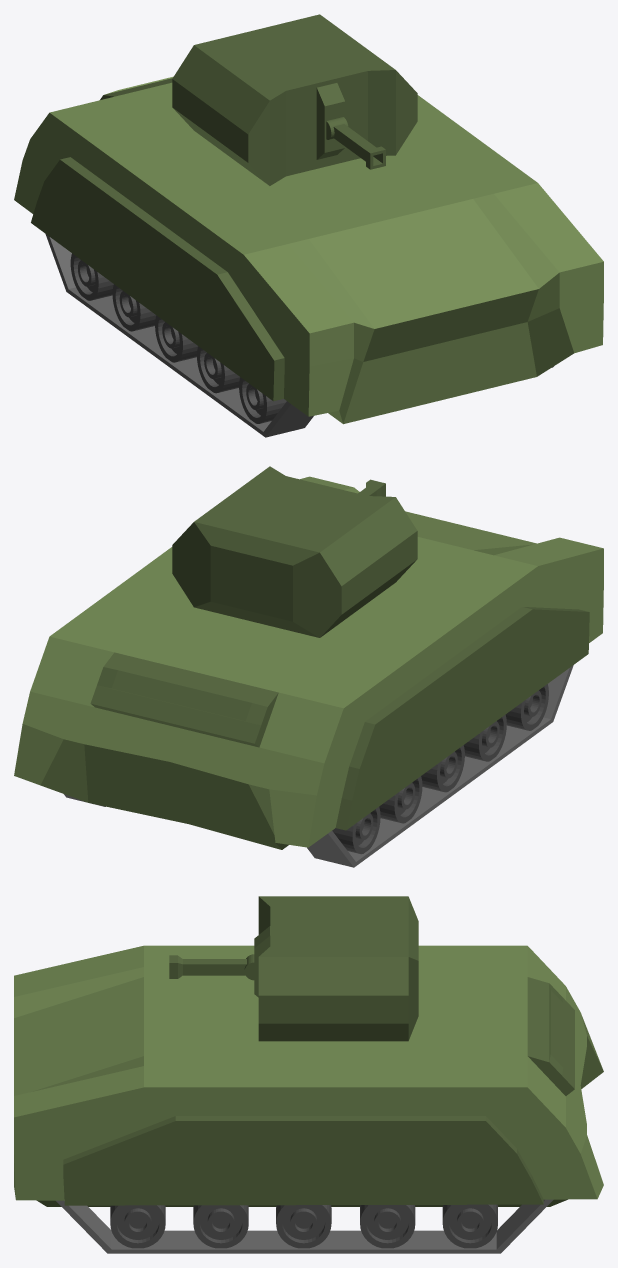
Rendered from tier1.fbx.
The picture shows the model from 3 angles, top to bottom: view 1: azimuth 30°, elevation 25°; view 2: azimuth 150°, elevation 25°; view 3: azimuth 270°, elevation 25°; orthographic projection.
Visible parts, largest first — view 1: Body7, Turret7, Road Wheels7, Tracks7, Main Gun7; view 2: Body7, Turret7, Road Wheels7, Tracks7; view 3: Body7, Turret7, Road Wheels7, Tracks7, Main Gun7.
Boxes of the visible parts, x1=… form: Body7: x1=14, y1=76, x2=603, y2=424; Turret7: x1=172, y1=14, x2=417, y2=185; Road Wheels7: x1=70, y1=253, x2=286, y2=423; Tracks7: x1=45, y1=234, x2=553, y2=437; Main Gun7: x1=326, y1=117, x2=385, y2=169; Body7: x1=14, y1=476, x2=603, y2=849; Turret7: x1=172, y1=466, x2=417, y2=637; Road Wheels7: x1=332, y1=684, x2=548, y2=854; Tracks7: x1=64, y1=665, x2=573, y2=867; Body7: x1=14, y1=945, x2=603, y2=1206; Turret7: x1=254, y1=896, x2=418, y2=1041; Road Wheels7: x1=110, y1=1204, x2=497, y2=1248; Tracks7: x1=56, y1=1199, x2=553, y2=1253; Main Gun7: x1=169, y1=954, x2=254, y2=980.
Bounding box in the file's own units: 386 × 305 × 633.
